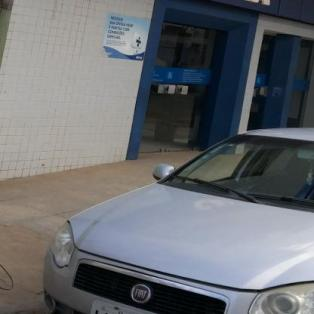Poste: (0, 0, 49, 306)
